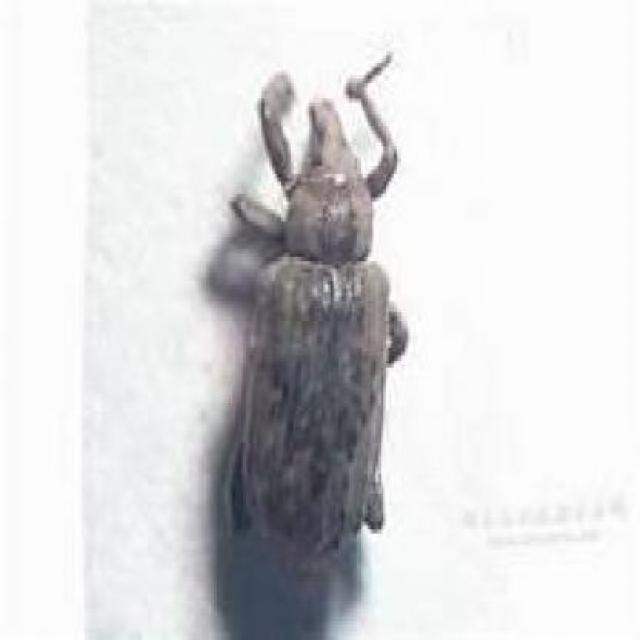rice-bug: (220, 58, 415, 564)
